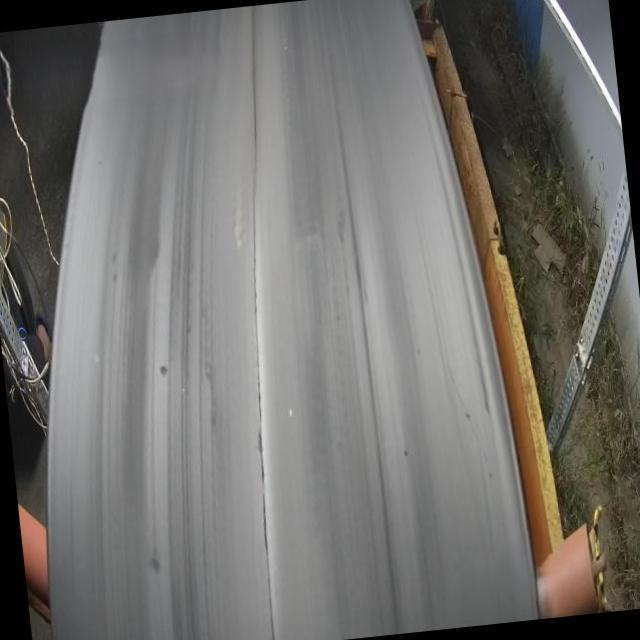Tear: (240, 6, 284, 640)
